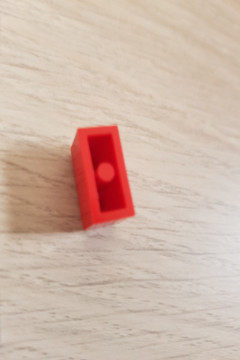1x2 red: (71, 123, 143, 230)
